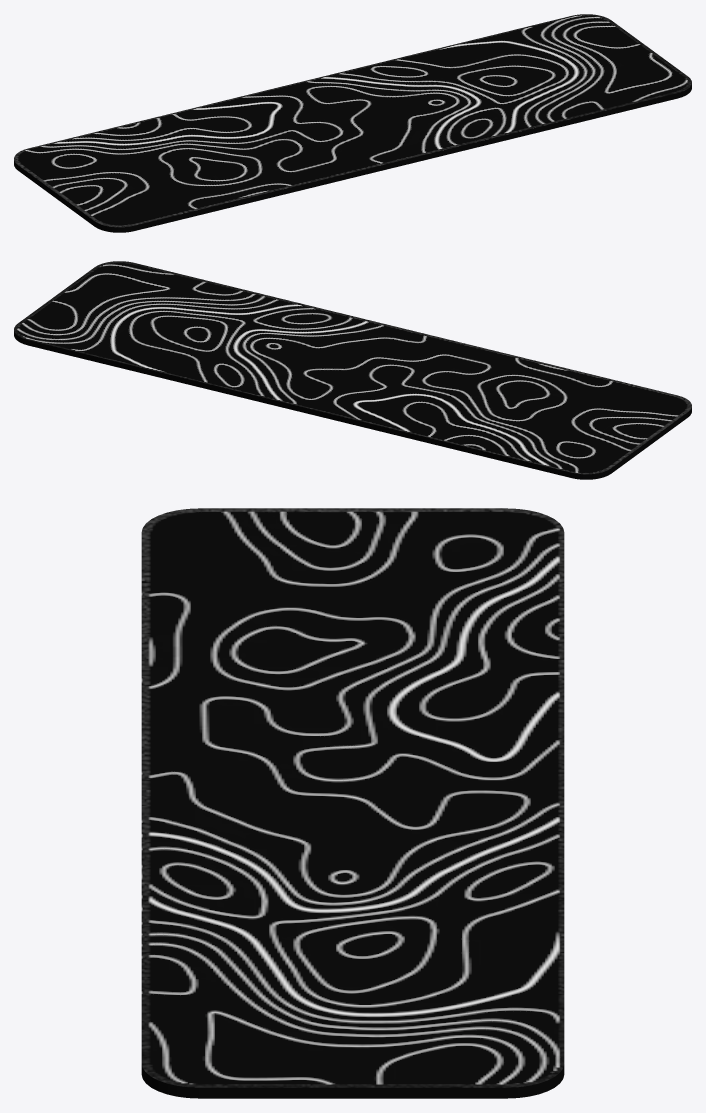
File: carpetfull.fbx
3 renders of one model, top to bottom at view 1: azimuth 30°, elevation 25°; view 2: azimuth 150°, elevation 25°; view 3: azimuth 270°, elevation 25°, orthographic. The views are drawn at different scales.
Parts seen in each view (by area): view 1: Plane; view 2: Plane; view 3: Plane.
Part boxes in pixels (x1,y1,x2,y2): Plane: (14,14,691,232); Plane: (14,261,691,479); Plane: (141,508,564,1098).
Bounding box in the file's own units: 915 × 8 × 282.
Materials: 1 (1 with a texture image).
